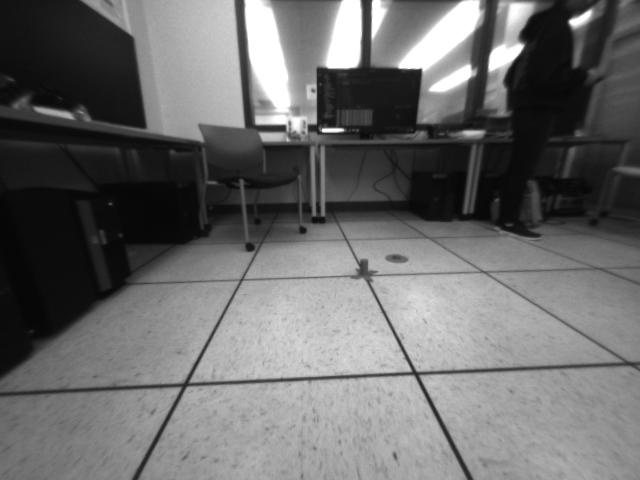X: (349, 258, 379, 282)
